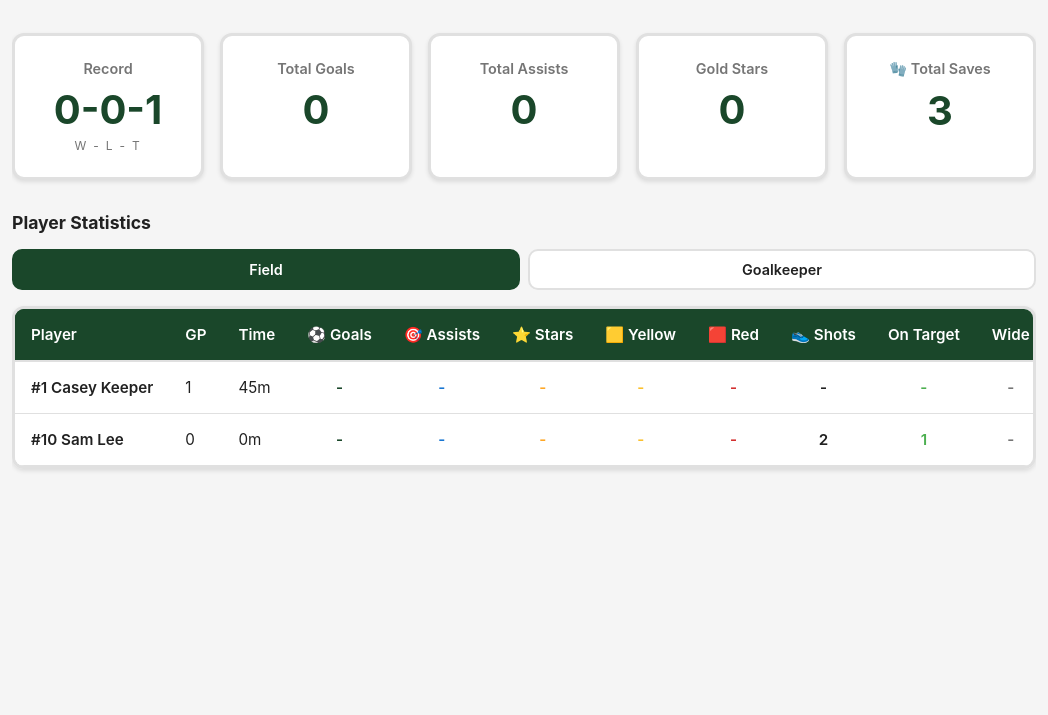
TeamReport › Issue #203: Saves by Goalie › drill-down for a non-keeper player shows NO keeper breakout card
Expected: the text "#10 Sam Lee" is shown, [15, 413, 169, 465]
Click the text "#10 Sam Lee 0 0m - - - - - 2 1 - -" at coordinates (526, 439), box [15, 413, 1036, 465]
(page scrolled)
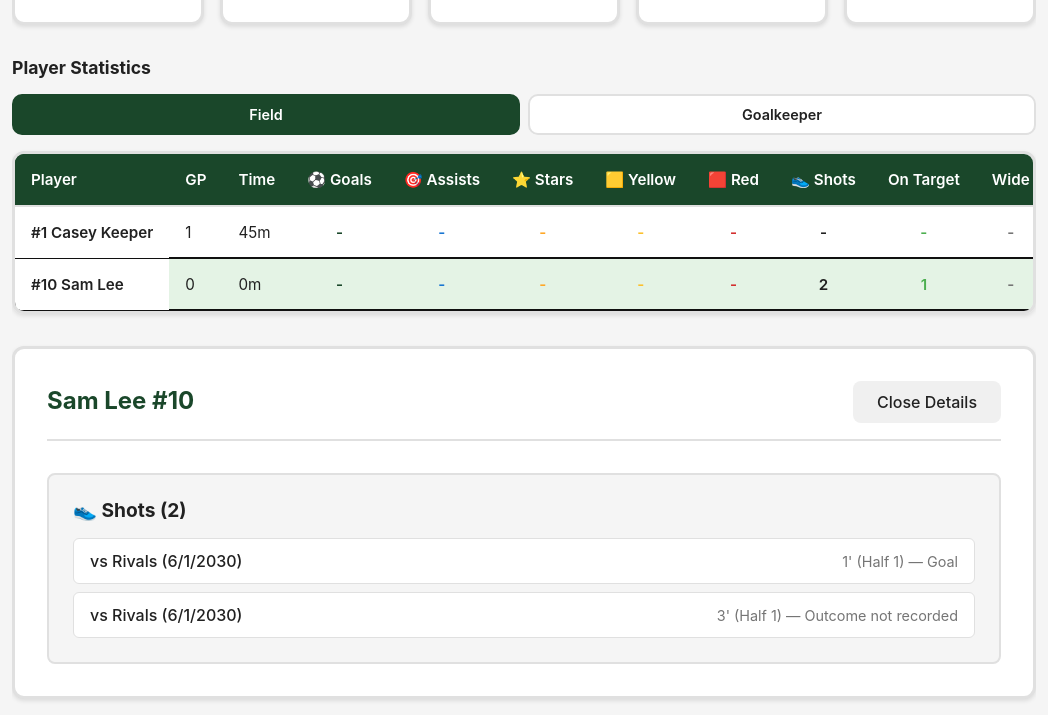
Expected: the element that starts with "Sam" is shown, [12, 346, 1036, 699]
